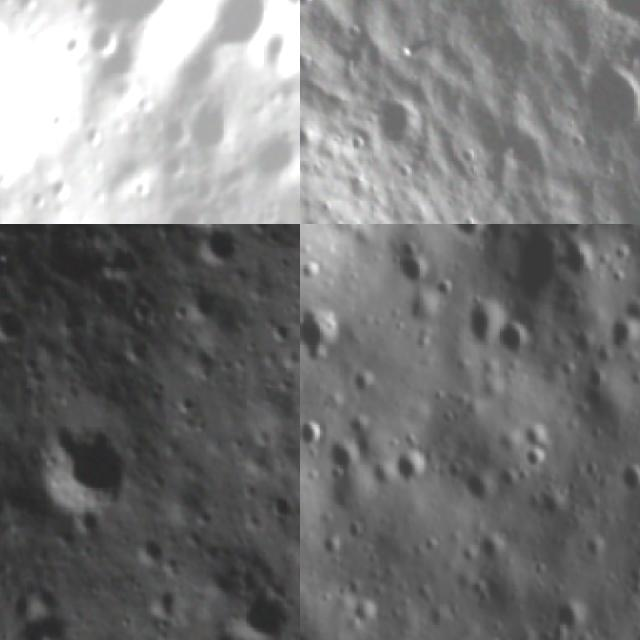crater: (52, 0, 212, 66), (0, 0, 49, 177), (46, 408, 135, 504), (191, 0, 300, 75), (567, 62, 640, 156), (178, 224, 263, 289), (360, 87, 432, 162), (177, 80, 248, 156), (217, 578, 300, 640), (119, 522, 192, 584), (243, 119, 300, 188), (75, 18, 126, 74), (250, 23, 300, 80), (300, 302, 345, 363), (0, 291, 37, 355), (462, 294, 505, 349), (257, 478, 300, 530), (394, 448, 431, 487), (549, 600, 588, 637), (496, 319, 532, 359), (388, 249, 428, 285), (326, 438, 362, 476), (475, 528, 510, 564), (607, 311, 640, 349), (463, 469, 496, 506), (439, 224, 496, 242), (615, 459, 640, 498), (580, 359, 610, 390), (300, 417, 328, 448), (524, 422, 552, 451), (582, 530, 609, 560), (354, 594, 380, 624), (520, 445, 550, 470), (350, 372, 378, 398), (322, 528, 343, 561), (559, 224, 593, 236)
